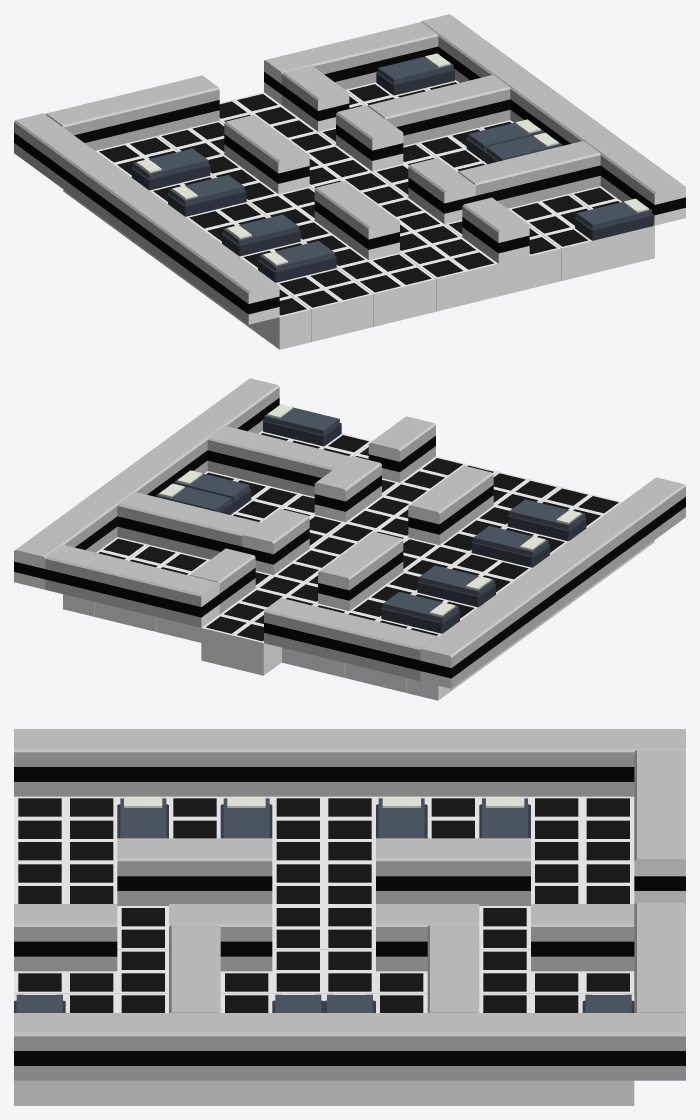
The model's file is bedroomSmall2.fbx.
3 renders of one model, top to bottom at view 1: azimuth 30°, elevation 25°; view 2: azimuth 150°, elevation 25°; view 3: azimuth 270°, elevation 25°, orthographic. The views are drawn at different scales.
Parts seen in each view (by area): view 1: Cube.236, Cube.007, Cube.237, Cube.014, Cube.159, Cube.158, Cube.212, Cube.183, Cube.197, Cube.209, Cube.011, Cube.199 (+96 smaller); view 2: Cube.236, Cube.158, Cube.159, Cube.007, Cube.014, Cube.168, Cube.009, Cube.187, Cube.214, Cube.005, Cube.216, Cube.210 (+89 smaller); view 3: Cube.174, Cube.176, Cube.179, Cube.182, Cube.193, Cube.202, Cube.205, Cube.207, Cube.210, Cube.214, Cube.218, Cube.005 (+128 smaller).
Part boxes in pixels (x1,y1,x2,y2): Cube.236: [575, 198, 653, 240]; Cube.007: [131, 148, 210, 190]; Cube.237: [376, 53, 454, 95]; Cube.014: [168, 175, 246, 216]; Cube.159: [222, 214, 300, 256]; Cube.158: [258, 241, 336, 282]; Cube.212: [354, 118, 403, 171]; Cube.183: [230, 272, 279, 324]; Cube.197: [350, 207, 399, 259]; Cube.209: [480, 211, 529, 263]; Cube.011: [260, 141, 309, 194]; Cube.199: [426, 171, 475, 223]; Cube.236: [263, 404, 341, 446]; Cube.158: [507, 499, 586, 541]; Cube.159: [471, 525, 549, 567]; Cube.007: [381, 592, 459, 633]; Cube.014: [417, 565, 495, 607]; Cube.168: [170, 575, 219, 627]; Cube.009: [408, 492, 457, 544]; Cube.187: [420, 636, 469, 688]; Cube.214: [314, 469, 363, 522]; Cube.005: [318, 558, 367, 610]; Cube.216: [242, 522, 291, 574]; Cube.210: [368, 429, 417, 482]; Cube.174: [582, 729, 634, 796]; Cube.176: [427, 729, 479, 796]; Cube.179: [220, 729, 272, 796]; Cube.182: [65, 729, 117, 796]; Cube.193: [65, 1013, 117, 1080]; Cube.202: [220, 1013, 272, 1080]; Cube.205: [427, 1013, 479, 1080]; Cube.207: [582, 1013, 634, 1080]; Cube.210: [65, 904, 117, 971]; Cube.214: [220, 904, 272, 971]; Cube.218: [582, 904, 634, 971]; Cube.005: [479, 838, 530, 905].
Size of the model in its own units: 2800 by 400 by 2600.
